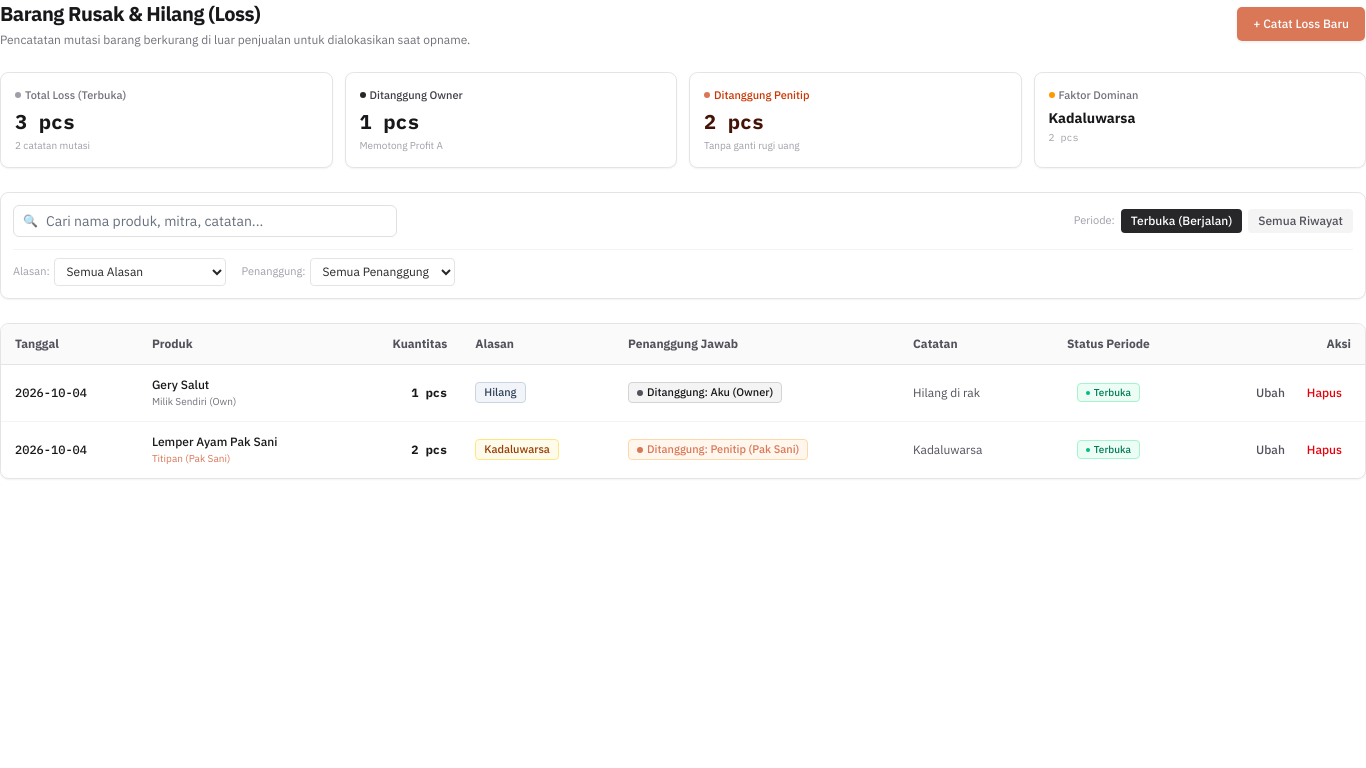
Loss Frontend › LossPage › opens create dialog when clicking + Catat Loss Baru button
The width and height of the screenshot is (1366, 768).
Check: the heading "Barang Rusak & Hilang (Loss)" is shown, box [0, 0, 260, 27]
Click the button "+ Catat Loss Baru" at (1301, 24), box [1236, 6, 1365, 42]
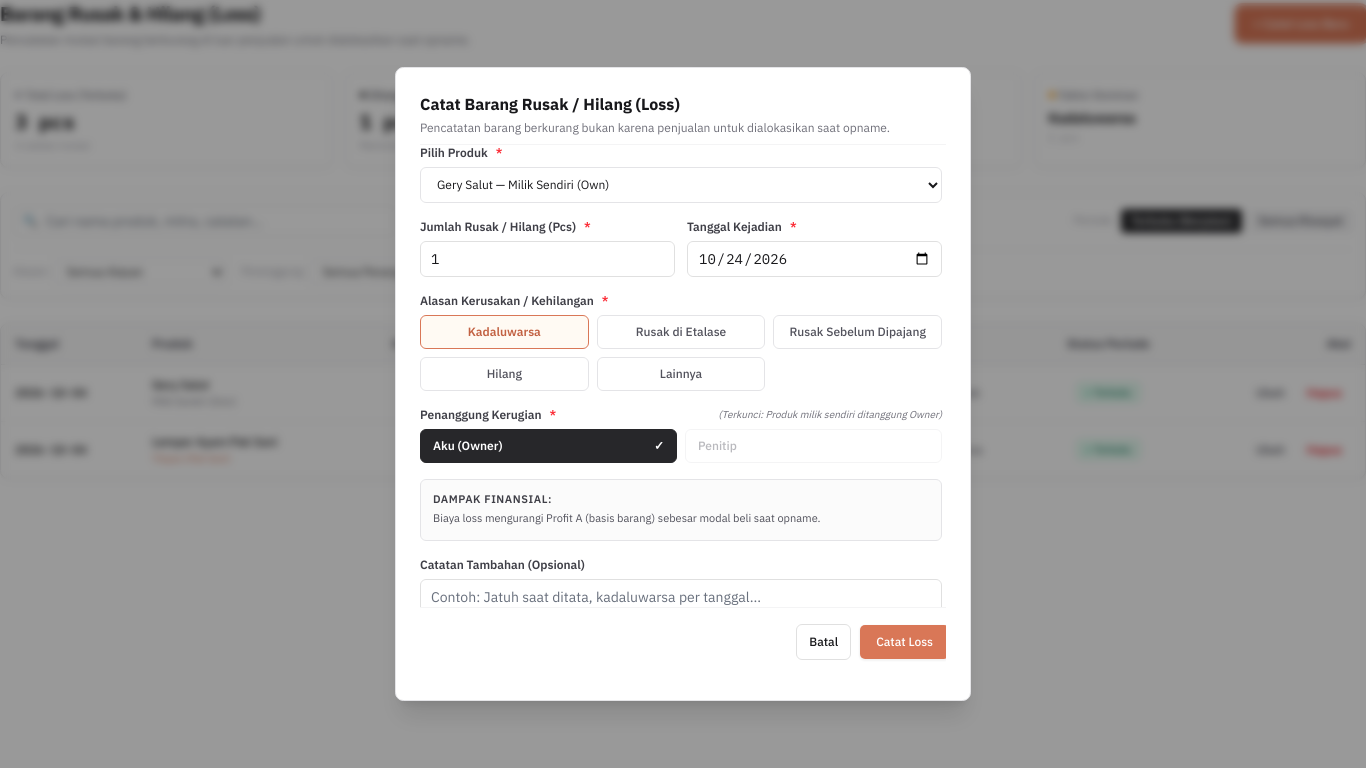
Check: the heading "Catat Barang Rusak / Hilang (Loss)" is shown, box [420, 94, 680, 114]
